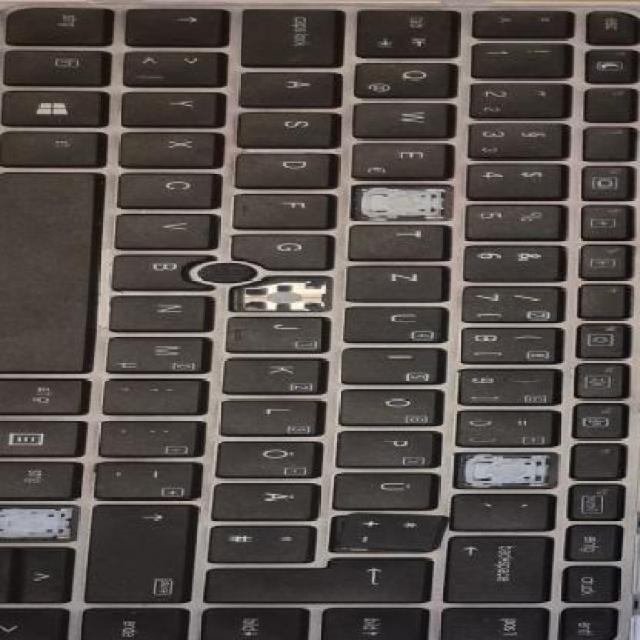Keyboard problems: (458, 454, 555, 488), (234, 277, 329, 311), (355, 188, 448, 218)
